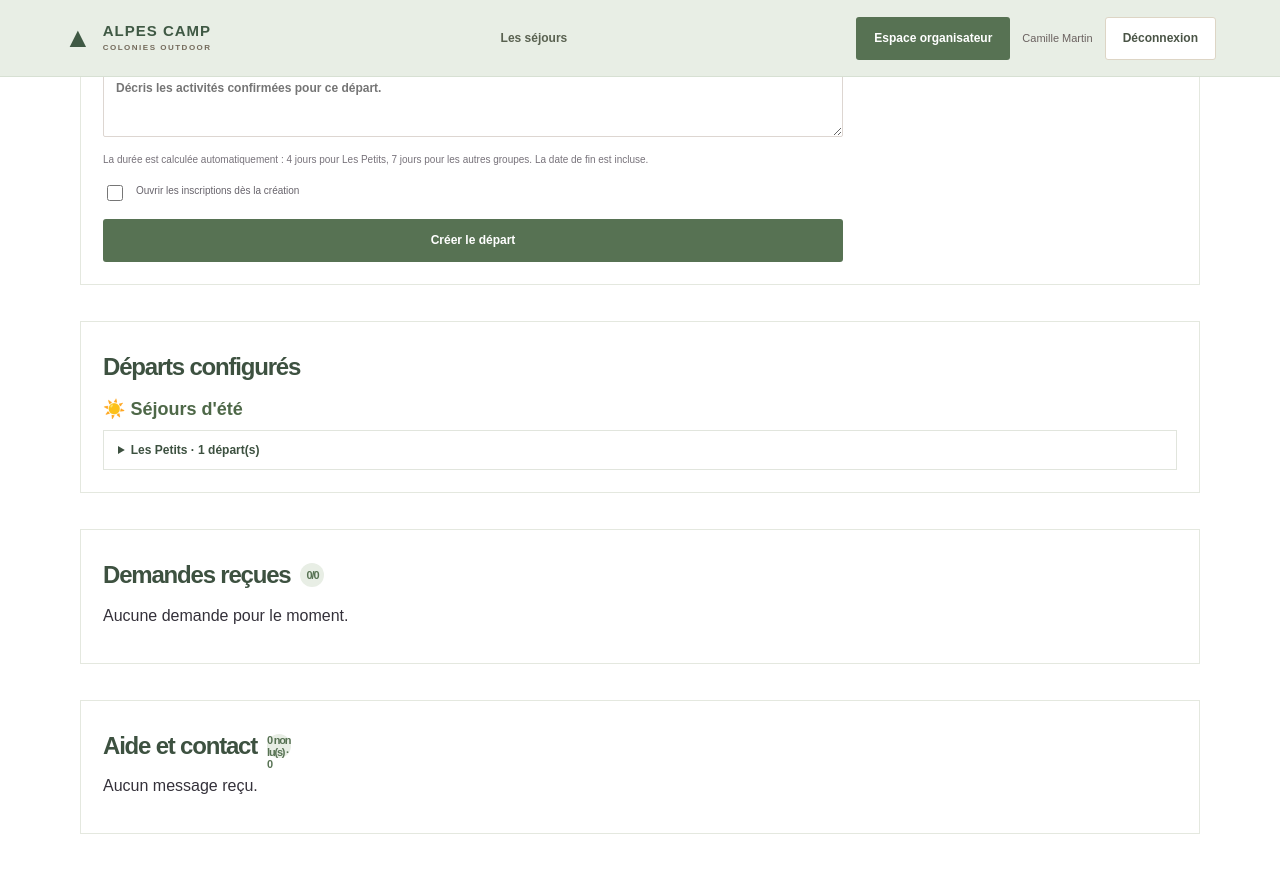
it: application Alpes Camp › regroupe les départs par saison et groupe et permet de supprimer un départ vide
(page scrolled)
Expected: the heading "☀️ Séjours d'été" is shown, top-left (103, 399), bottom-right (243, 419)
Step 1. Click the heading "Les Petits · 1 départ(s)" → (195, 450), box top-left (131, 443), bottom-right (260, 457)
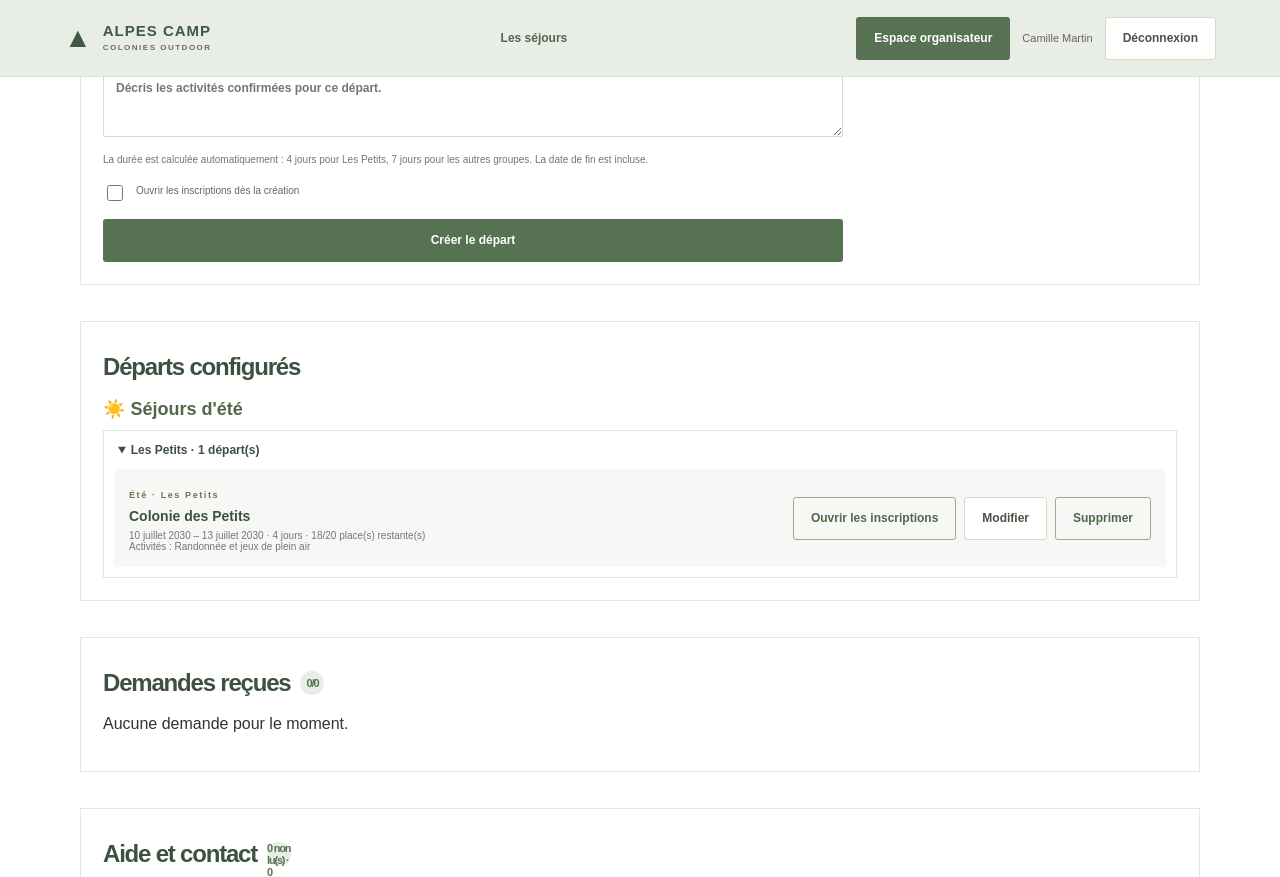
Step 2. Click the button "Supprimer" → (1103, 518), box top-left (1055, 497), bottom-right (1151, 540)
(page scrolled)
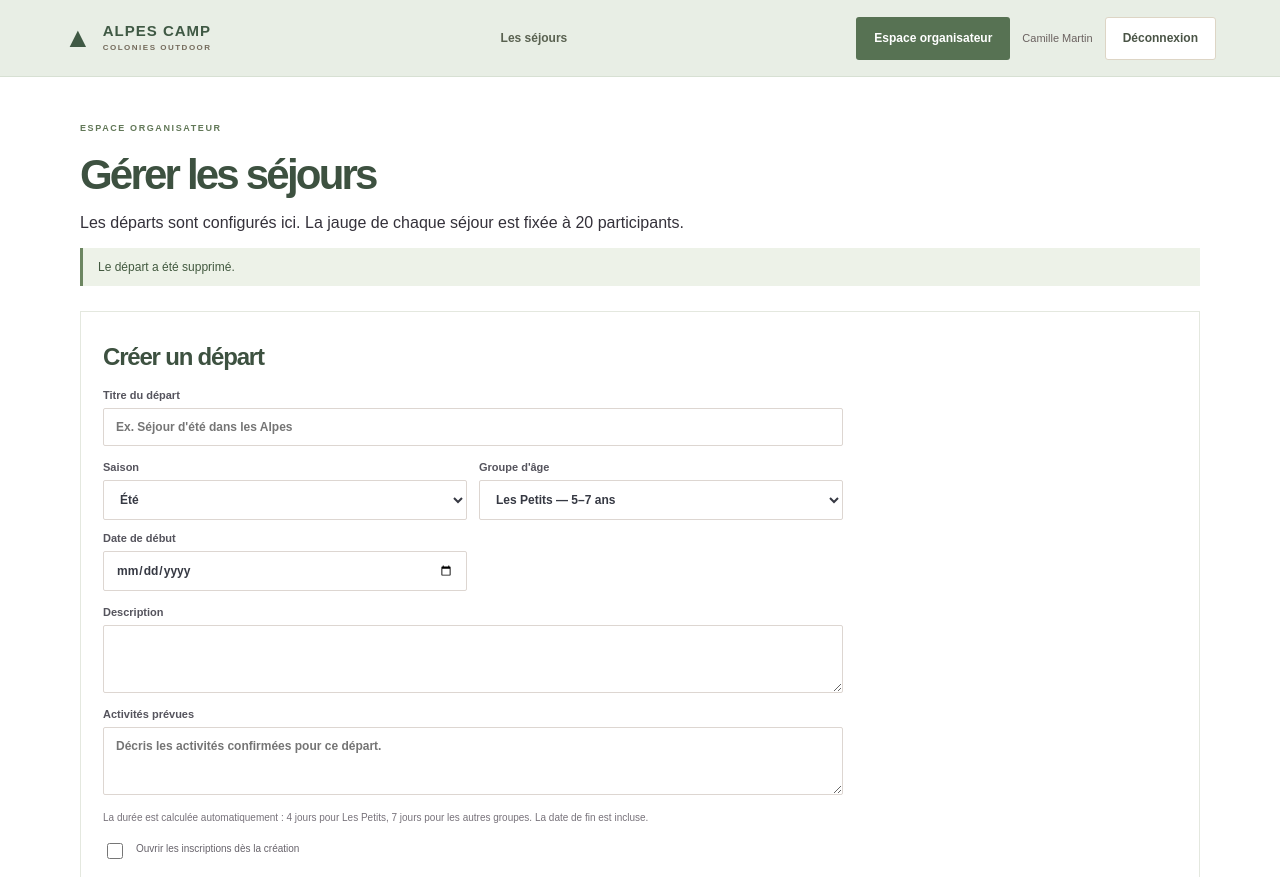
Expected: the text "Le départ a été supprimé." is shown, top-left (80, 248), bottom-right (1200, 286)
